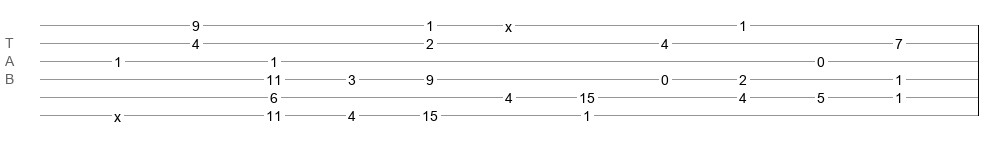0: (661, 72, 669, 82), (817, 54, 825, 64)
1: (114, 54, 122, 64), (270, 54, 278, 64), (426, 18, 434, 28), (583, 108, 591, 118), (739, 18, 747, 28), (895, 72, 903, 82), (895, 90, 903, 100)
11: (266, 108, 282, 118), (266, 72, 282, 82)
15: (422, 108, 438, 118), (579, 90, 595, 100)
2: (426, 36, 434, 46), (739, 72, 747, 82)
3: (348, 72, 356, 82)
4: (192, 36, 200, 46), (348, 108, 356, 118), (505, 90, 513, 100), (661, 36, 669, 46), (739, 90, 747, 100)
5: (817, 90, 825, 100)
6: (270, 90, 278, 100)
7: (895, 36, 903, 46)
9: (192, 18, 200, 28), (426, 72, 434, 82)
x: (114, 109, 121, 117), (505, 19, 512, 27)
